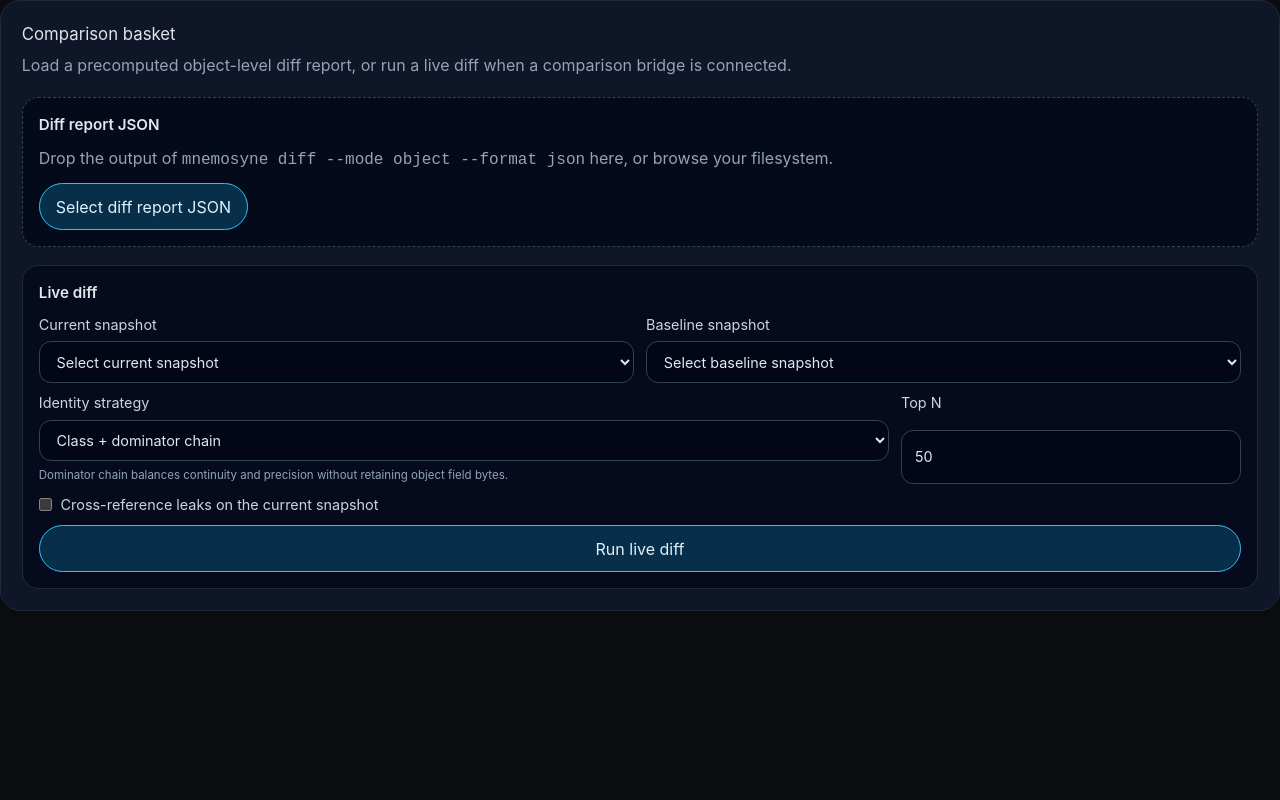
Test case: ComparisonPicker › explains identity trade-offs and full-fingerprint field-data cost
Check: the text "Dominator chain balances continuity and precision" is shown, box [39,468,508,482]
Select "Class + retained size" in the dropdown labelled "Identity strategy": (464,441) [39,420,889,462]
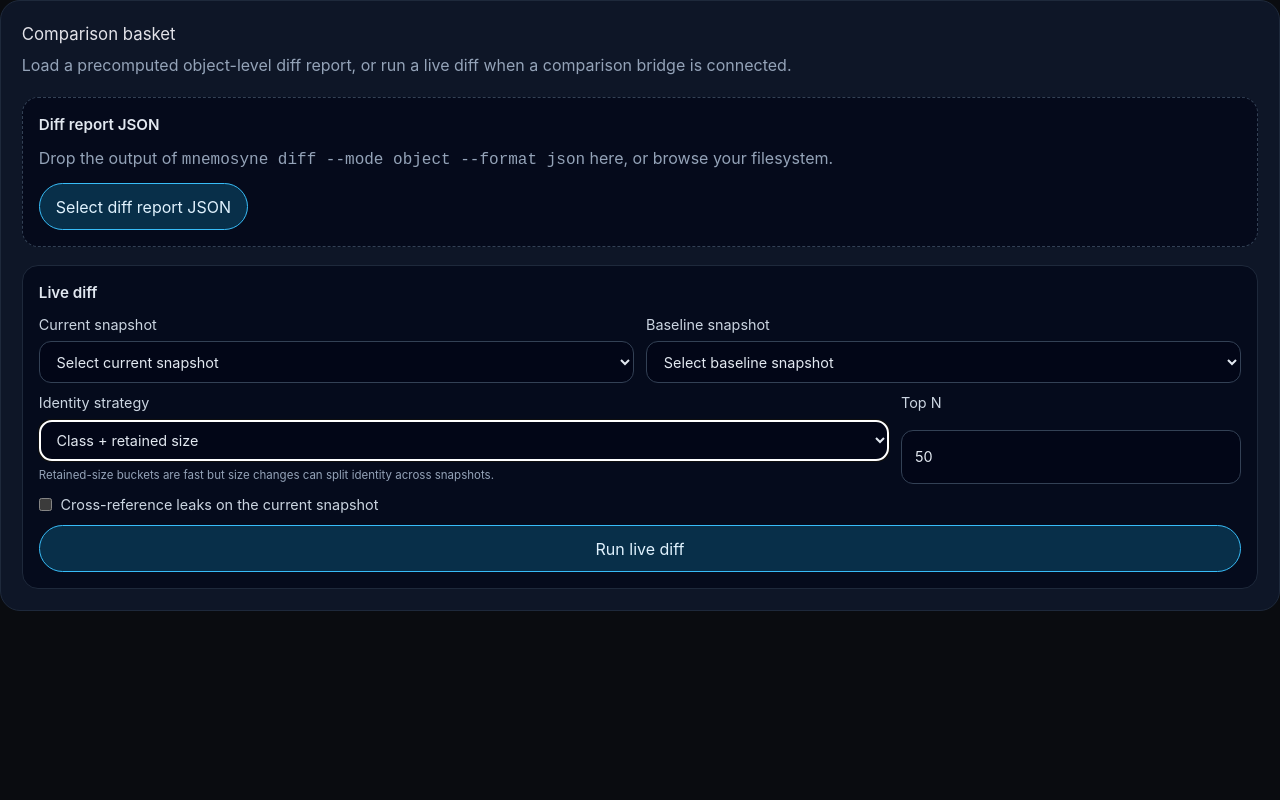
Check: the text "Retained-size buckets are fast but size changes can split identity" is shown, box [39,468,494,482]
Select "Full fingerprint" in the dropdown labelled "Identity strategy": (464,441) [39,420,889,462]
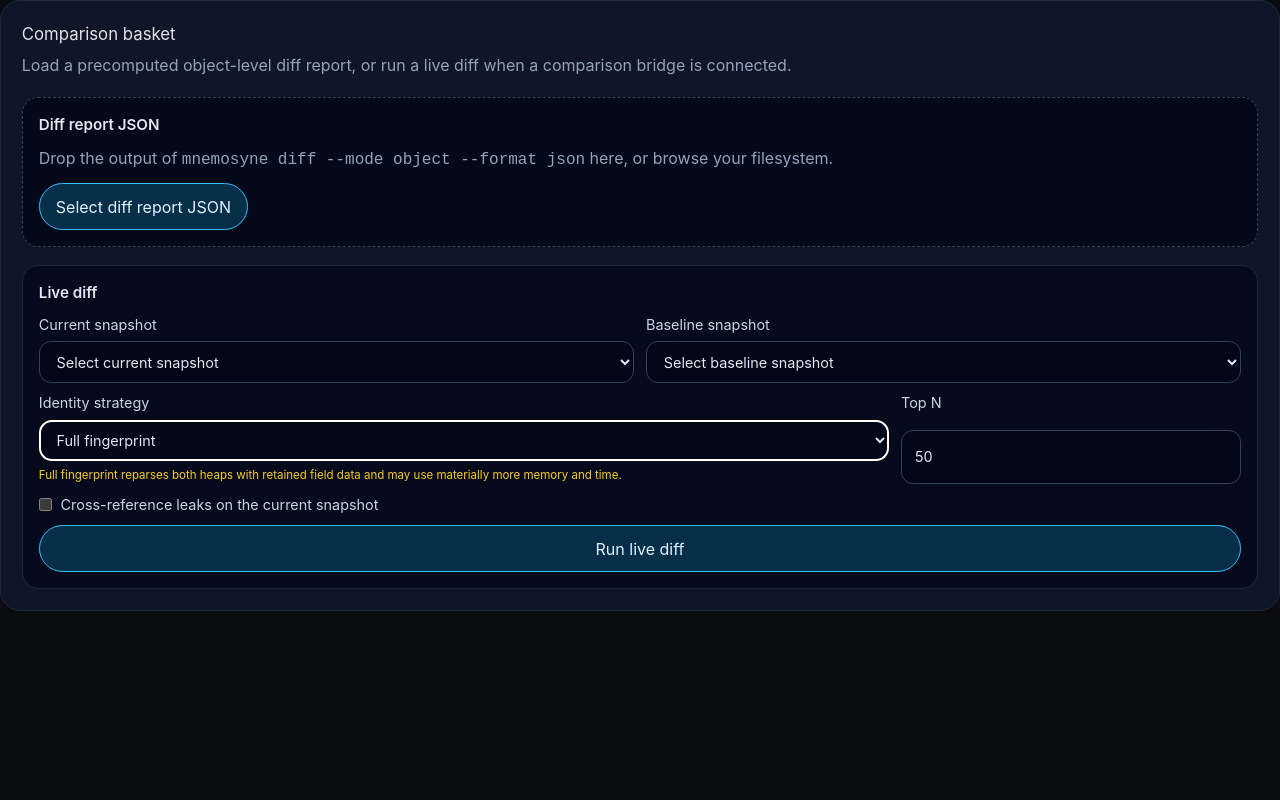
Check: the text "reparses both heaps with retained field data and may use materially more memory and time" is shown, box [39,468,622,482]
